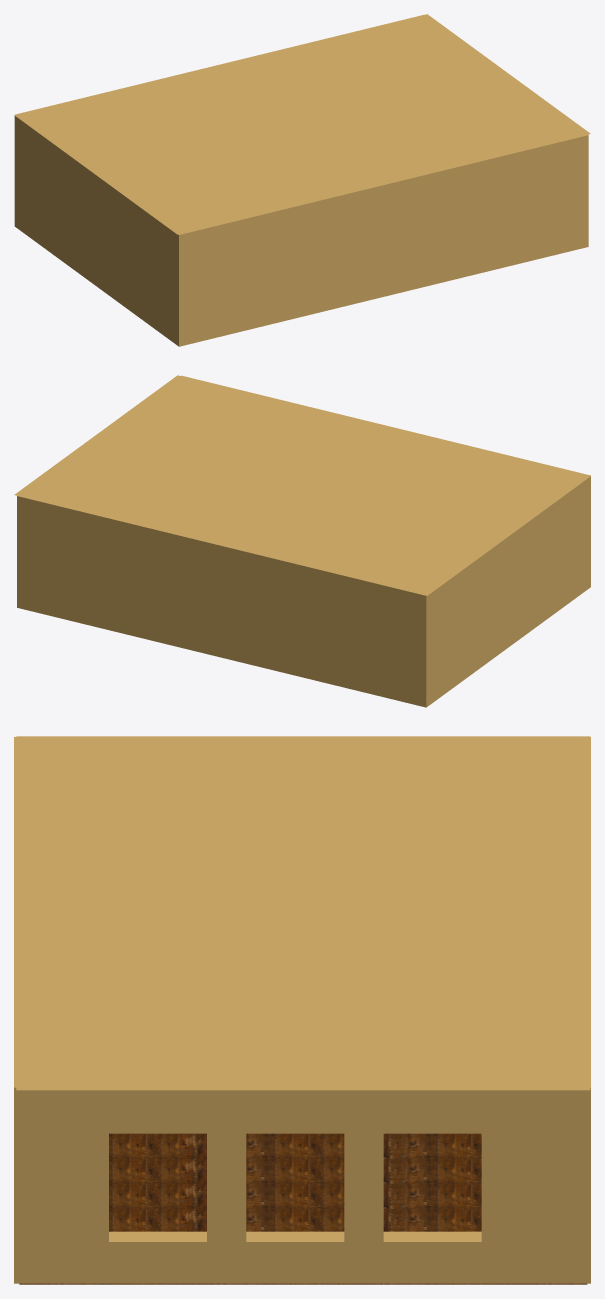
File: walls.fbx
3 renders of one model, top to bottom at view 1: azimuth 30°, elevation 25°; view 2: azimuth 150°, elevation 25°; view 3: azimuth 270°, elevation 25°, orthographic. The views are drawn at different scales.
Visible parts, largest first — view 1: walls.003, ceiling.003; view 2: walls.003, ceiling.003; view 3: ceiling.003, walls.003, Plane.002.
Boxes of the visible parts, x1,y1,x2,y2 form: walls.003: (14,15,588,346); ceiling.003: (14,14,590,234); walls.003: (17,375,590,707); ceiling.003: (14,375,590,595); ceiling.003: (16,736,590,1090); walls.003: (14,737,590,1283); Plane.002: (19,1133,587,1284).
Size of the model in its own units: 1161 by 300 by 800.
